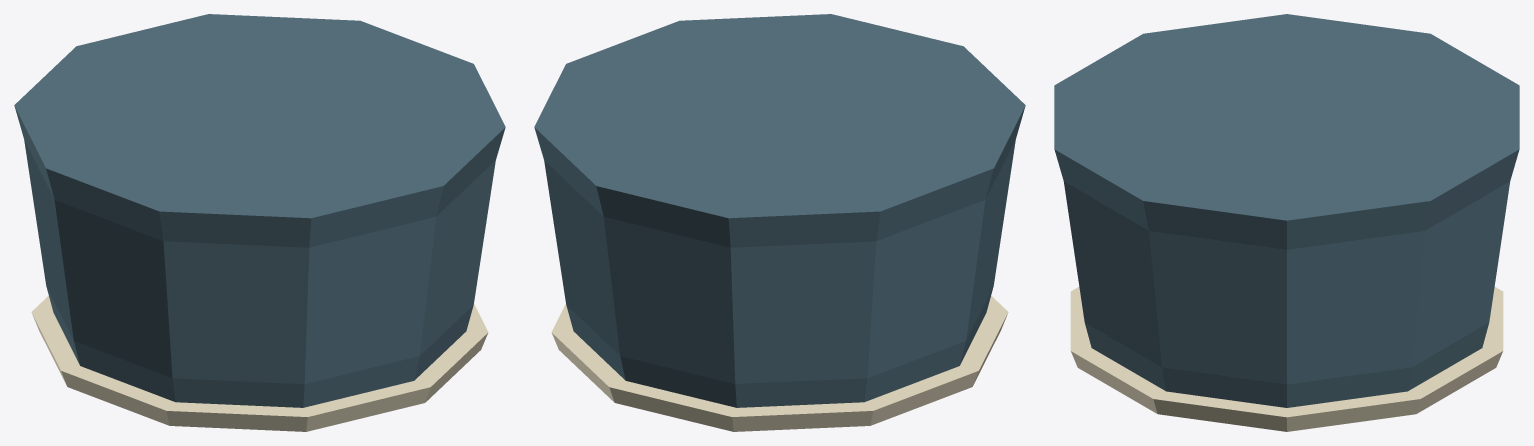
File: trouser_shin.glb
3 renders of one model, left to right at view 1: azimuth 30°, elevation 25°; view 2: azimuth 150°, elevation 25°; view 3: azimuth 270°, elevation 25°, orthographic.
Parts seen in each view (by area): view 1: Trouser_shin_skin, Rolled_cuff.001; view 2: Trouser_shin_skin, Rolled_cuff.001; view 3: Trouser_shin_skin, Rolled_cuff.001.
Boxes of the visible parts, x1=… form: Trouser_shin_skin: x1=14, y1=14, x2=505, y2=407; Rolled_cuff.001: x1=31, y1=296, x2=488, y2=431; Trouser_shin_skin: x1=534, y1=14, x2=1025, y2=407; Rolled_cuff.001: x1=551, y1=296, x2=1008, y2=431; Trouser_shin_skin: x1=1054, y1=14, x2=1519, y2=407; Rolled_cuff.001: x1=1070, y1=287, x2=1503, y2=431.
Bounding box in the file's own units: 2 × 1 × 1.9.
